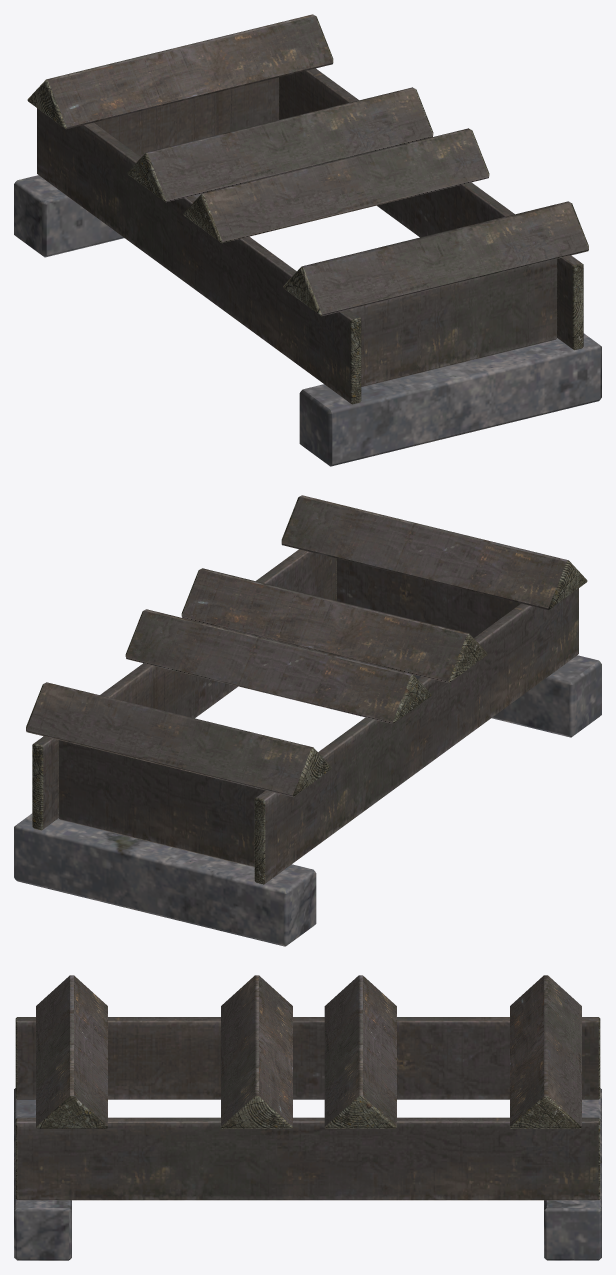
The model's file is WineCask.fbx.
The picture shows the model from 3 angles, top to bottom: view 1: azimuth 30°, elevation 25°; view 2: azimuth 150°, elevation 25°; view 3: azimuth 270°, elevation 25°; orthographic projection. The views are drawn at different scales.
Visible parts, largest first — view 1: SM_WineCaskPalletB_LOD0; view 2: SM_WineCaskPalletB_LOD0; view 3: SM_WineCaskPalletB_LOD0.
Boxes of the visible parts, left/top/right/bottom form: SM_WineCaskPalletB_LOD0: left=14, top=14, right=601, bottom=466; SM_WineCaskPalletB_LOD0: left=14, top=495, right=601, bottom=946; SM_WineCaskPalletB_LOD0: left=14, top=975, right=601, bottom=1260.
Size of the model in its own units: 101 by 62.43 by 202.
